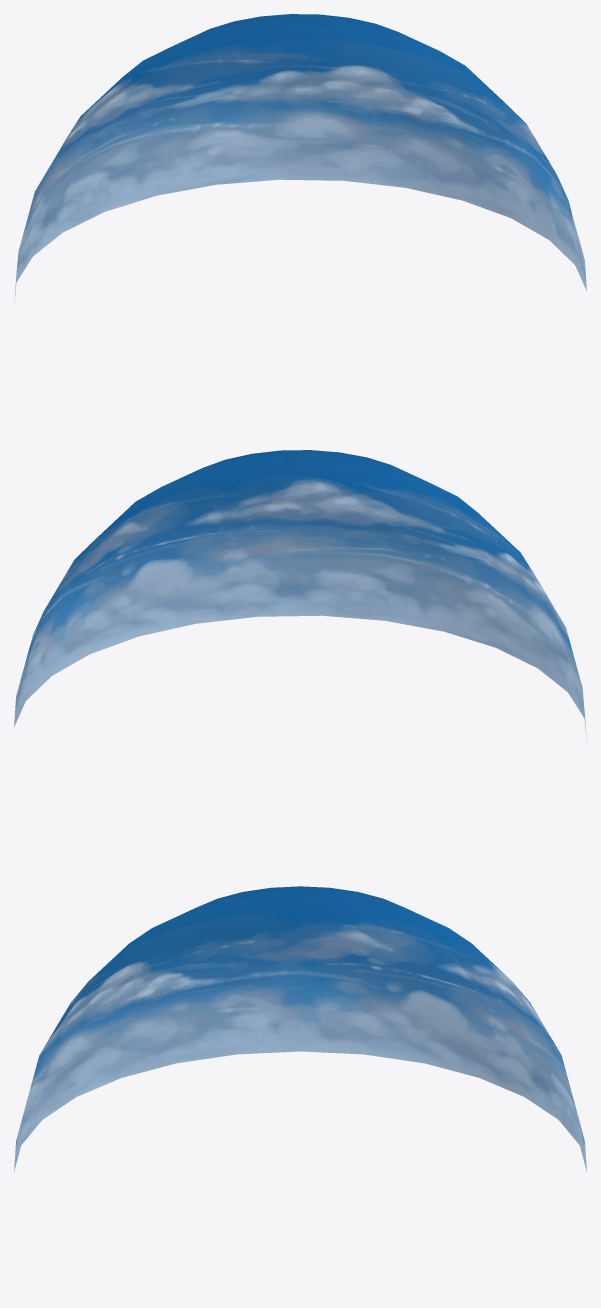
The model's file is sky.glb.
The picture shows the model from 3 angles, top to bottom: view 1: azimuth 30°, elevation 25°; view 2: azimuth 150°, elevation 25°; view 3: azimuth 270°, elevation 25°; orthographic projection.
Parts seen in each view (by area): view 1: Sky; view 2: Sky; view 3: Sky.
Boxes of the visible parts, bbox=[...] form: Sky: bbox=[14, 14, 586, 307]; Sky: bbox=[14, 450, 586, 743]; Sky: bbox=[14, 886, 586, 1171].
Size of the model in its own units: 1681 by 840 by 1681.
Materials: 1 (1 with a texture image).
